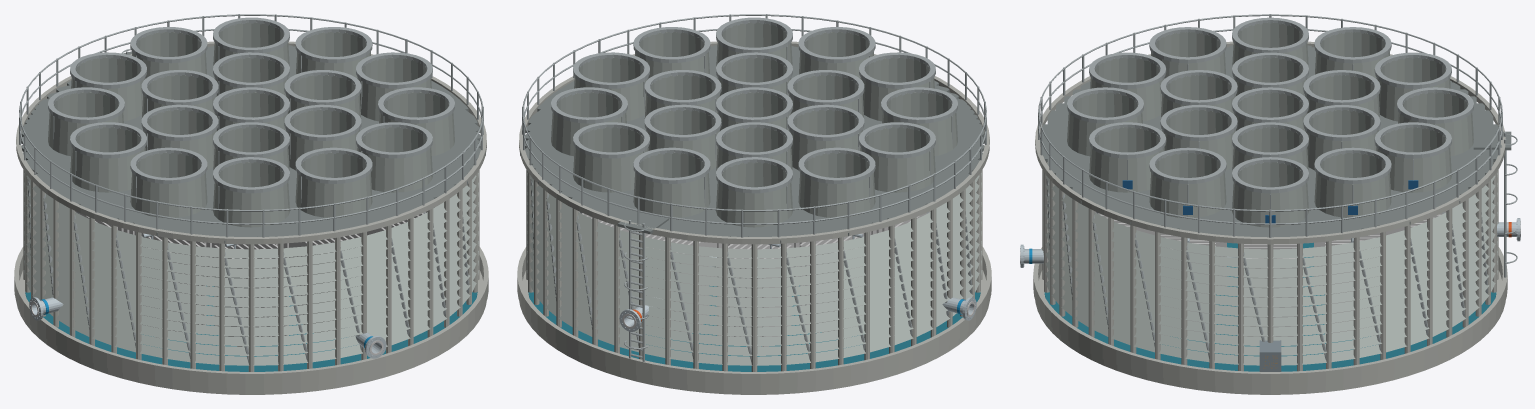
File: compact.obj
3 views of the same model, side by side, from view 1: azimuth 30°, elevation 25°; view 2: azimuth 150°, elevation 25°; view 3: azimuth 270°, elevation 25° (orthographic).
Bounding box in the file's own units: 0.9 × 0.3801 × 0.9.
